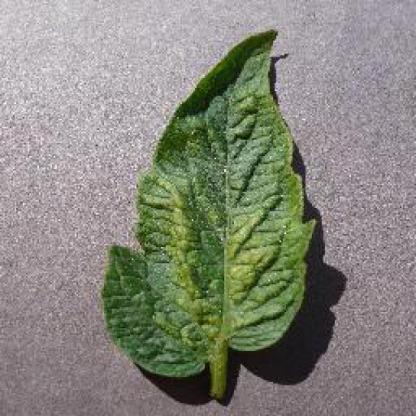Tomato_Spider_Mites: (105, 30, 316, 376)
